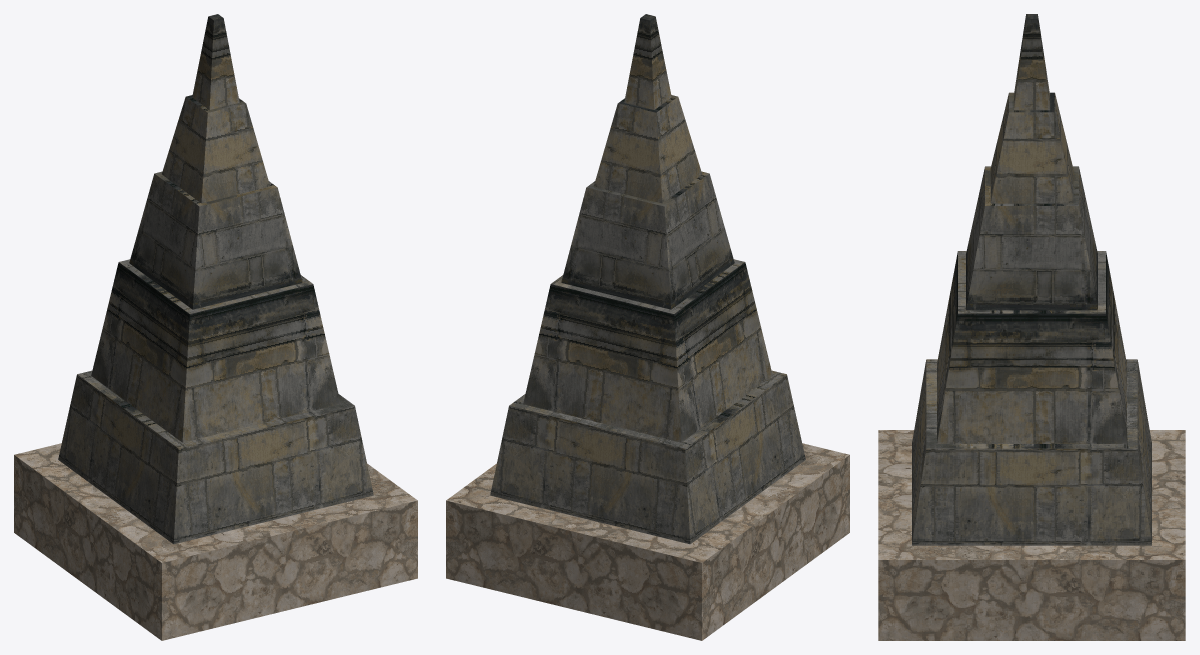
File: temple_statue_stupa.glb
3 views of the same model, side by side, from view 1: azimuth 30°, elevation 25°; view 2: azimuth 150°, elevation 25°; view 3: azimuth 270°, elevation 25° (orthographic). The views are drawn at different scales.
Parts seen in each view (by area): view 1: temple_statue_stupa; view 2: temple_statue_stupa; view 3: temple_statue_stupa.
Part boxes in pixels (box(x1,y1,x2,y2)): temple_statue_stupa: box(14, 14, 417, 640); temple_statue_stupa: box(446, 14, 849, 640); temple_statue_stupa: box(878, 14, 1185, 640).
Size of the model in its own units: 1.1 by 2.21 by 1.1.
3 materials, 3 textured.
